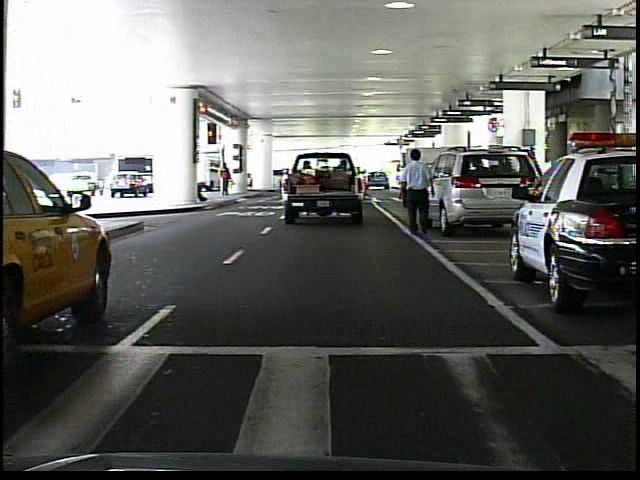person: (396, 143, 440, 238), (218, 161, 236, 199)
